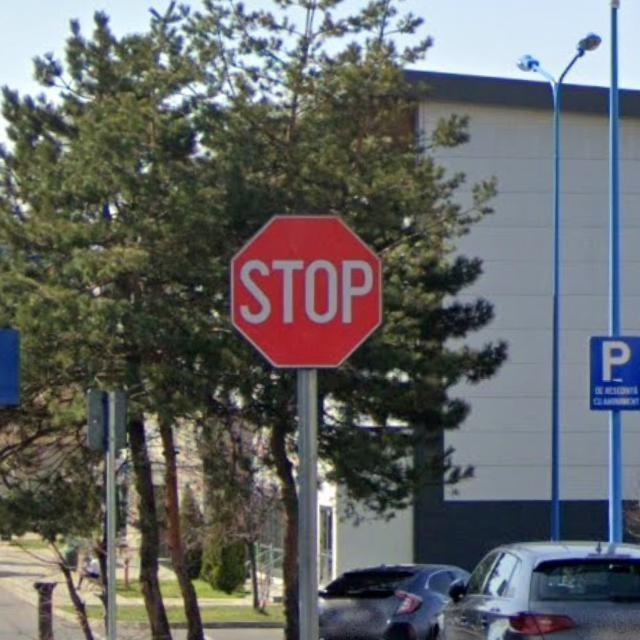prio_stop: (231, 215, 382, 368)
